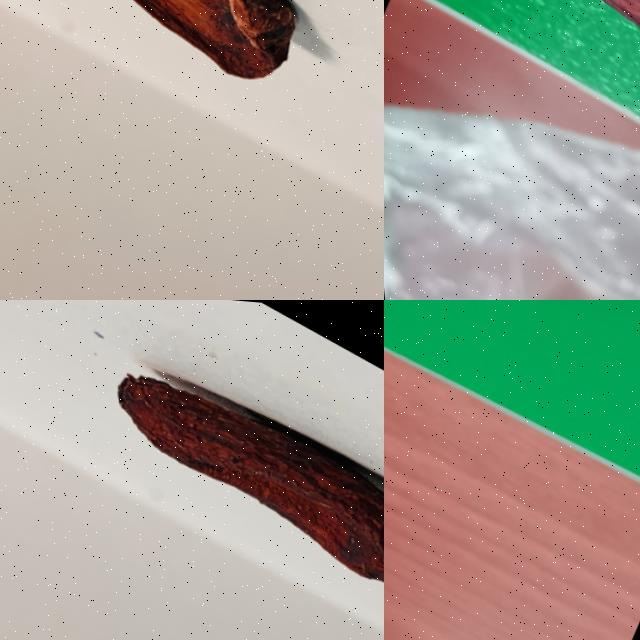Fine_cocoabeans: (384, 300, 639, 380)
Flat_cocoabeans: (34, 300, 383, 639), (0, 0, 367, 132), (398, 0, 639, 182)
